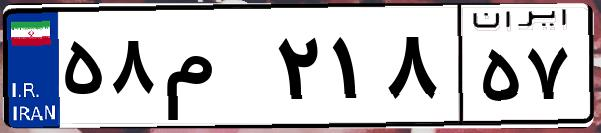1: (330, 28, 385, 110)
2: (270, 28, 330, 110)
5: (57, 26, 110, 100), (475, 38, 525, 113)
7: (525, 38, 570, 115)
8: (385, 28, 445, 110), (110, 28, 158, 98)
م: (158, 20, 270, 120)
